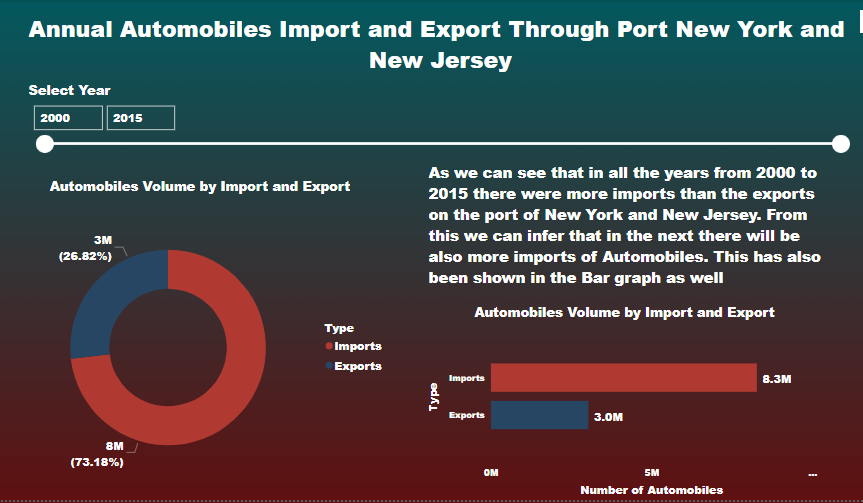

What the dashboard file says about the page in this screenshot:
{"tool":"powerbi","page":{"name":"Page 1","canvas":[1280,720],"ordinal":0},"visuals":[{"type":"shape","box":[17.3,13,1234.1,707],"z":0},{"type":"textbox","box":[42,13.4,1196,102.5],"z":1000},{"type":"slicer","title":"Select Year","fields":{"Values":["automobiles-annual-imports-and-exports-through-port-authority-of-ny-nj-maritime-.Year"]},"box":[42,115.9,1196,112.5],"z":2000},{"type":"donutChart","title":"Automobiles Volume by Import and Export","fields":{"Category":["automobiles-annual-imports-and-exports-through-port-authority-of-ny-nj-maritime-.Type"],"Y":["Sum(automobiles-annual-imports-and-exports-through-port-authority-of-ny-nj-maritime-.Automobile Volume)"]},"box":[16.8,253.6,552.7,467],"z":3000},{"type":"textbox","box":[618.2,228.5,598,193.2],"z":4000},{"type":"barChart","title":"Automobiles Volume by Import and Export","fields":{"Category":["automobiles-annual-imports-and-exports-through-port-authority-of-ny-nj-maritime-.Type"],"Y":["Sum(automobiles-annual-imports-and-exports-through-port-authority-of-ny-nj-maritime-.Automobile Volume)"]},"box":[618.2,435.1,574.5,285.6],"z":5000}]}

Visuals, with their boxes on the page's 1280x720 design canvas (x1, y1, x2, y2). These are canvas units, not pixel positions in the 863x503 screenshot, which may show the page scaled, cropped or inside an application window:
shape: select_region(17, 13, 1251, 720)
textbox: select_region(42, 13, 1238, 116)
"Select Year" slicer: select_region(42, 116, 1238, 228)
"Automobiles Volume by Import and Export" donutChart: select_region(17, 254, 570, 721)
textbox: select_region(618, 228, 1216, 422)
"Automobiles Volume by Import and Export" barChart: select_region(618, 435, 1193, 721)
